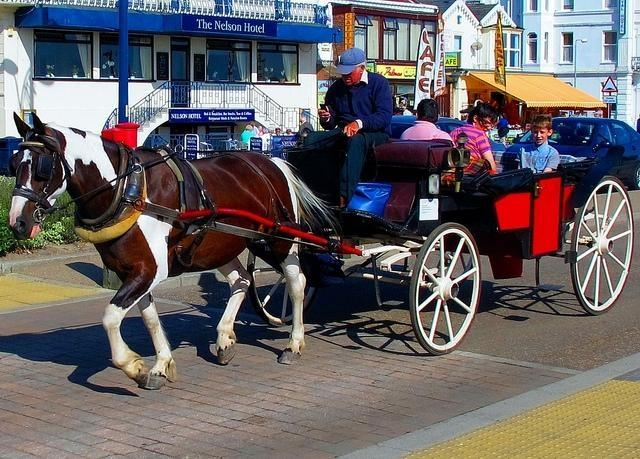car: (501, 119, 640, 190), (385, 115, 507, 151)
